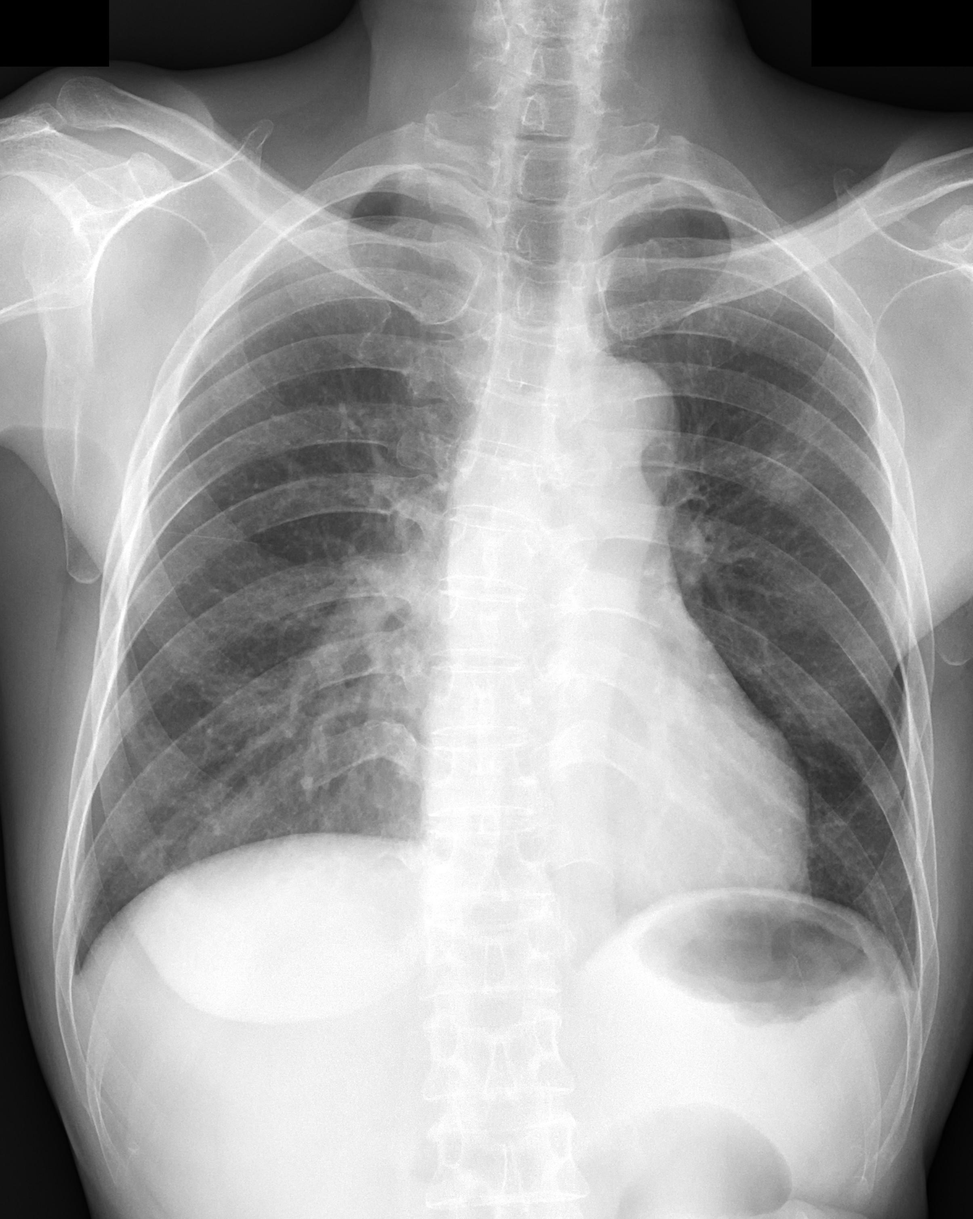Aortic enlargement: (542, 354, 682, 512)
